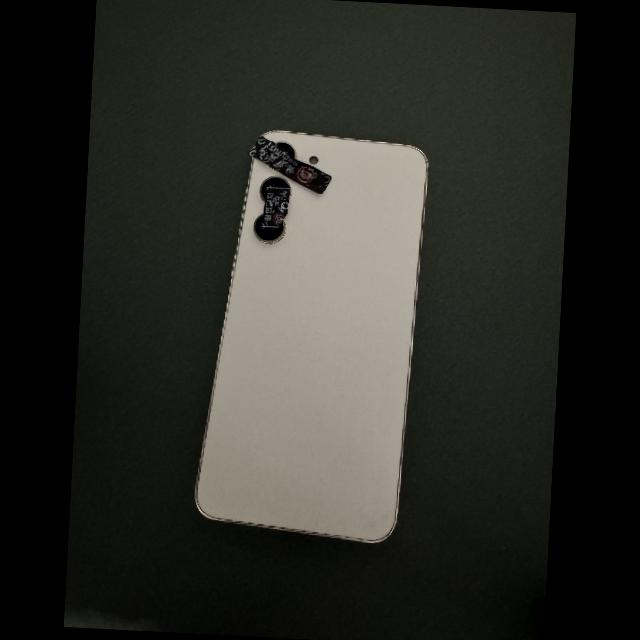lens: (254, 215, 286, 244), (261, 178, 290, 201), (276, 142, 295, 158)
phone: (196, 131, 428, 542)
sticker: (247, 137, 332, 195), (262, 183, 289, 231)
